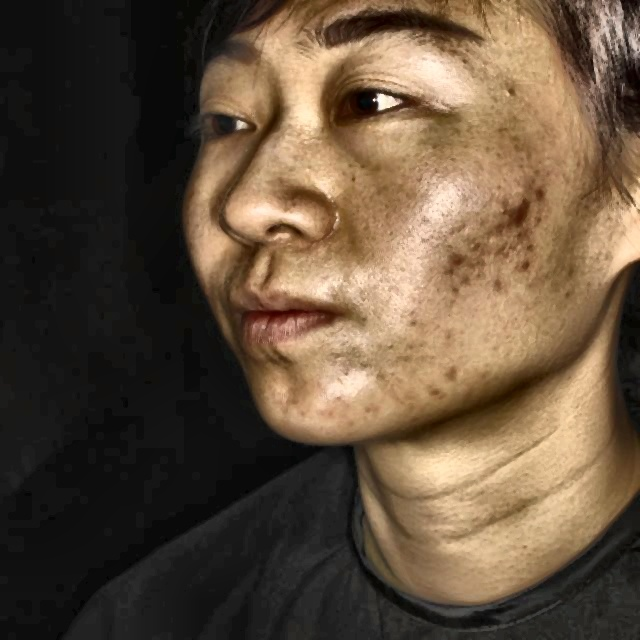comedone: (512, 183, 546, 231), (514, 252, 544, 282), (451, 245, 475, 276)
